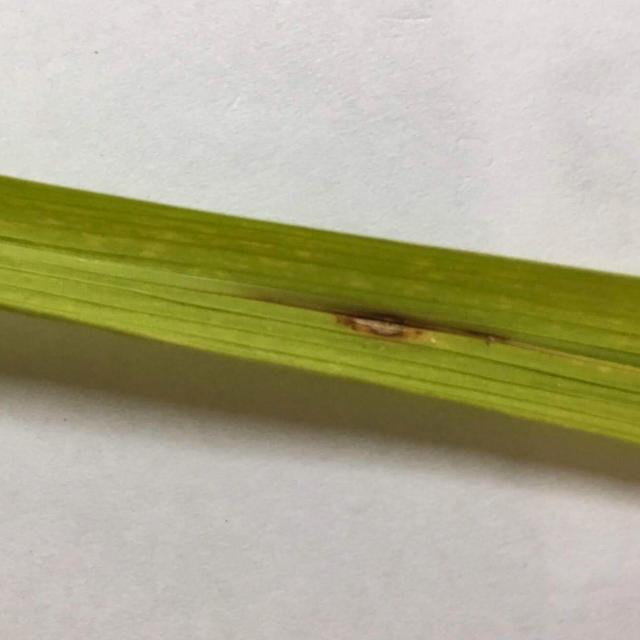Blast: (338, 306, 418, 344)
